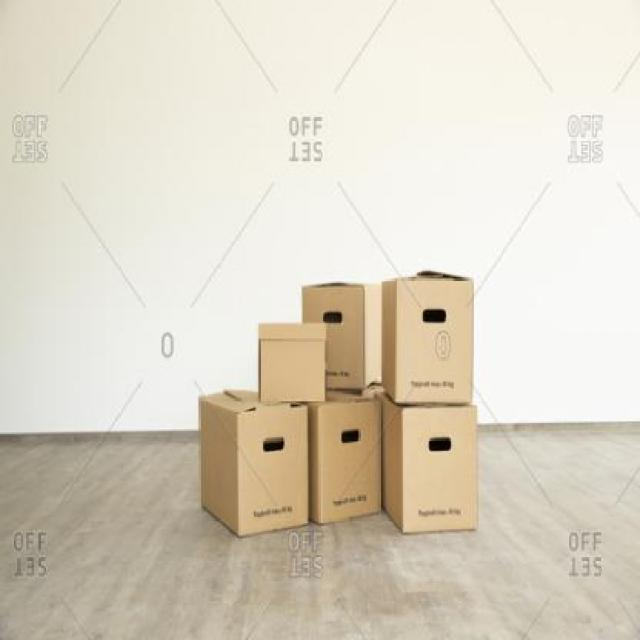box: (200, 388, 309, 540), (377, 391, 477, 532), (390, 268, 470, 401), (304, 392, 382, 520), (307, 278, 384, 389), (256, 321, 324, 400)
